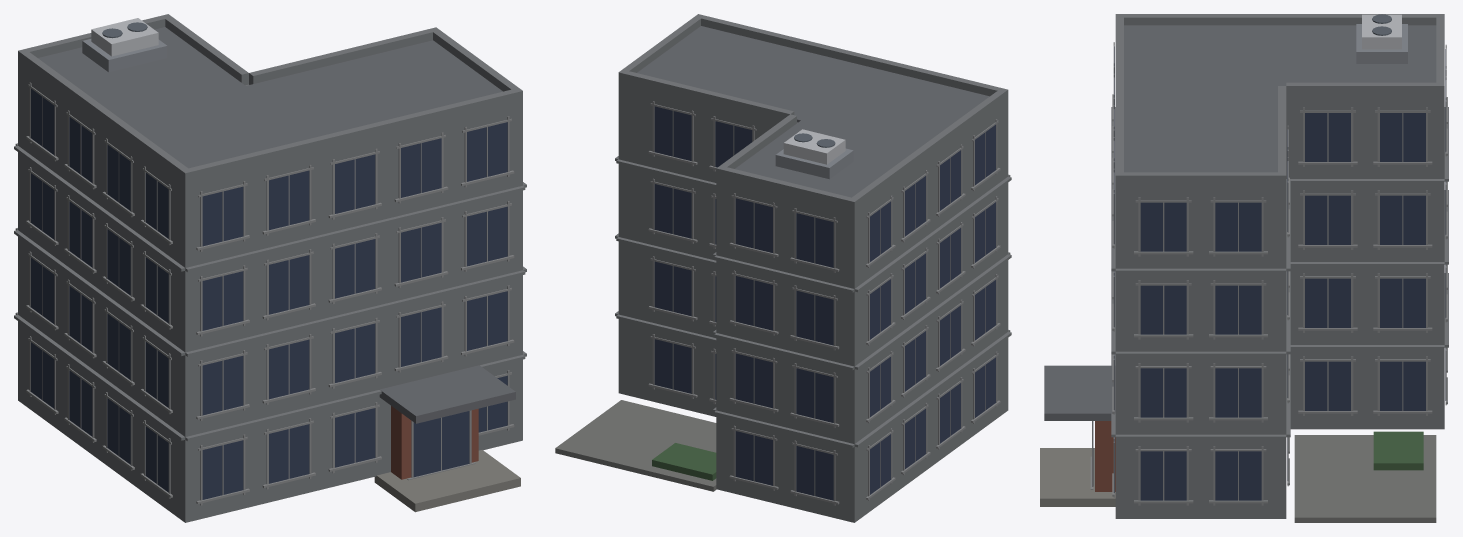
Rendered from civic_corner_05x02_lvl1.glb.
3 views of the same model, side by side, from view 1: azimuth 30°, elevation 25°; view 2: azimuth 150°, elevation 25°; view 3: azimuth 270°, elevation 25° (orthographic). The views are drawn at different scales.
Parts seen in each view (by area): view 1: civic_corner_05x02; view 2: civic_corner_05x02; view 3: civic_corner_05x02.
Boxes of the visible parts, box(x1,y1,x2,y2) form: civic_corner_05x02: box(14, 14, 526, 522); civic_corner_05x02: box(555, 14, 1011, 522); civic_corner_05x02: box(1040, 14, 1448, 522).
Size of the model in its own units: 0.9578 by 1.02 by 1.
